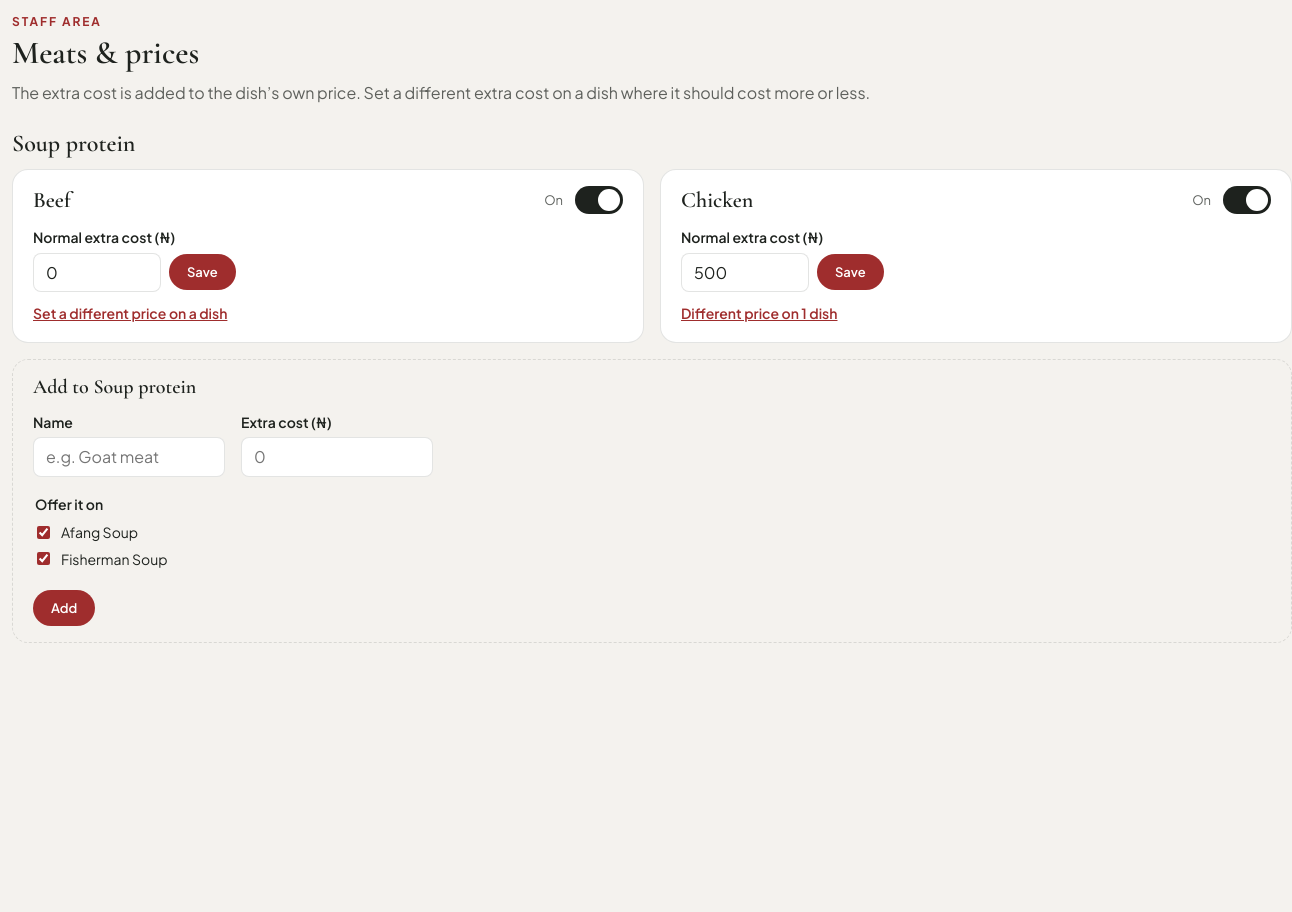
AdminMeatsView › prices on each dish › sets a special price on one dish
The width and height of the screenshot is (1292, 912).
Step 1. Click the button with test id "per-dish-toggle" showing "Different price on 1 dish" → (759, 313), box [681, 304, 838, 322]
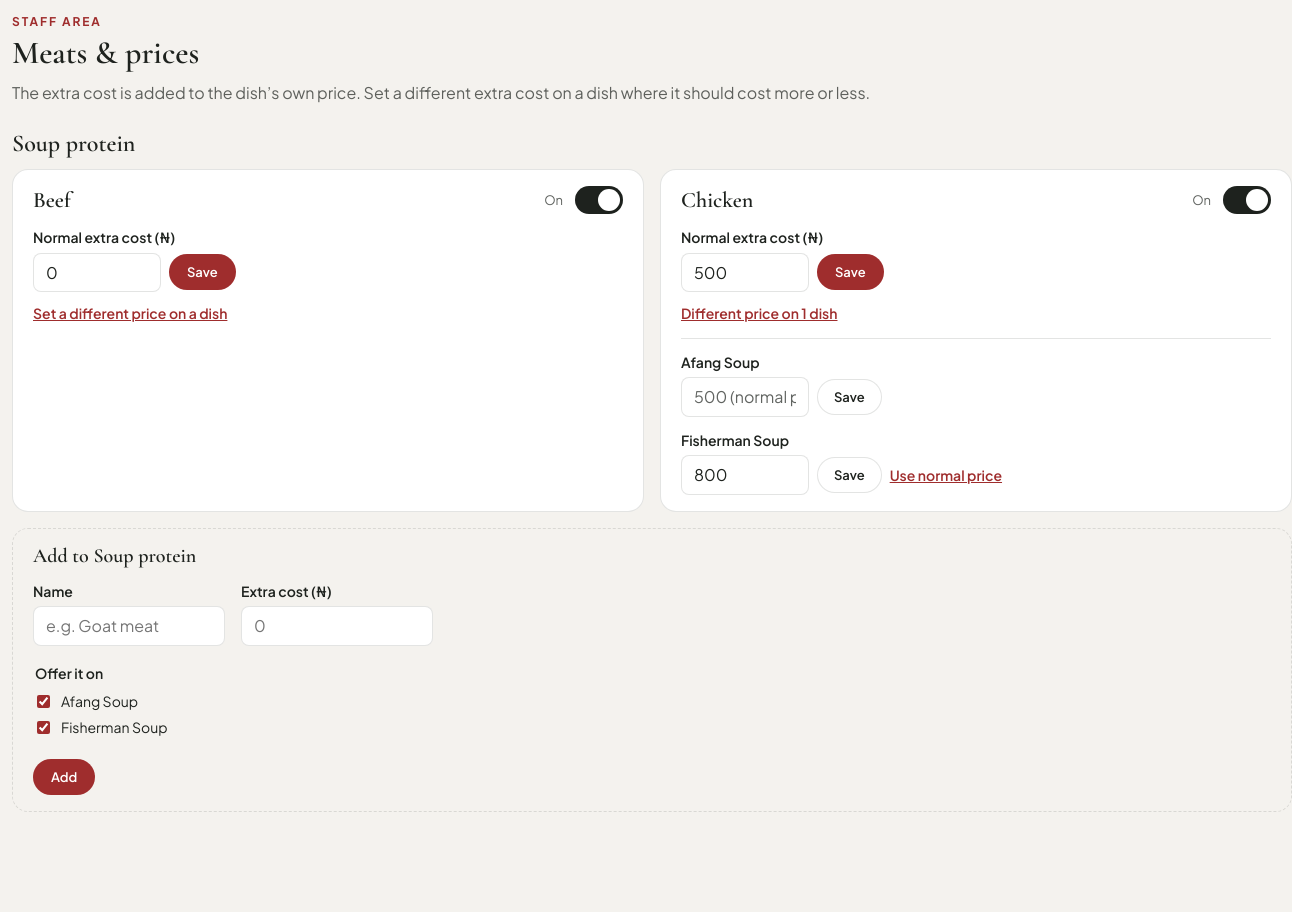
Step 2. Type "600" into the field labelled "Afang Soup" → (745, 397), box [681, 377, 809, 417]
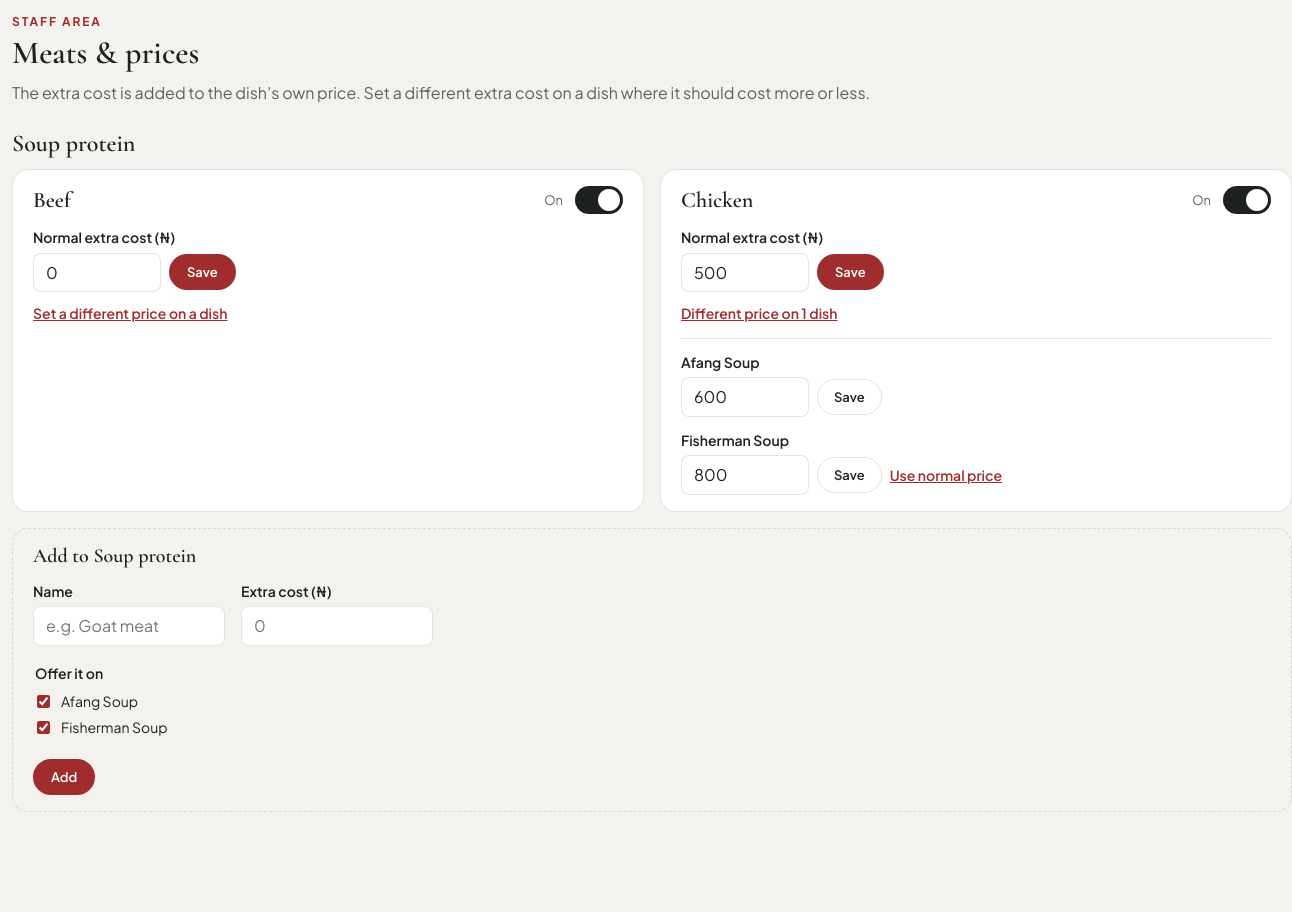
Step 3. Submit the form "Afang Soup Save", box [680, 352, 882, 417]
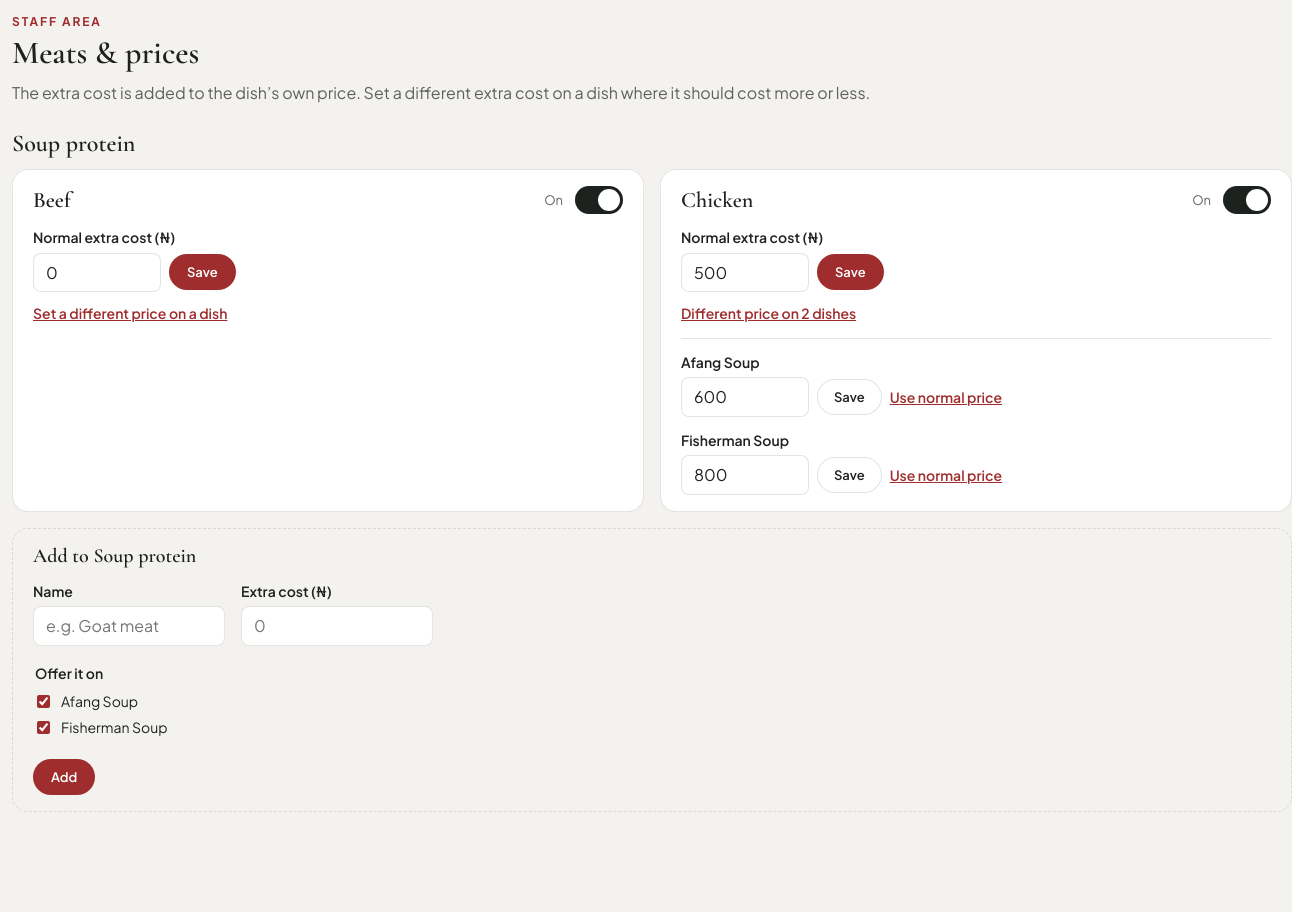
Check: the button with test id "per-dish-toggle" reads "Different price on 2 dishes", box [681, 304, 856, 322]
